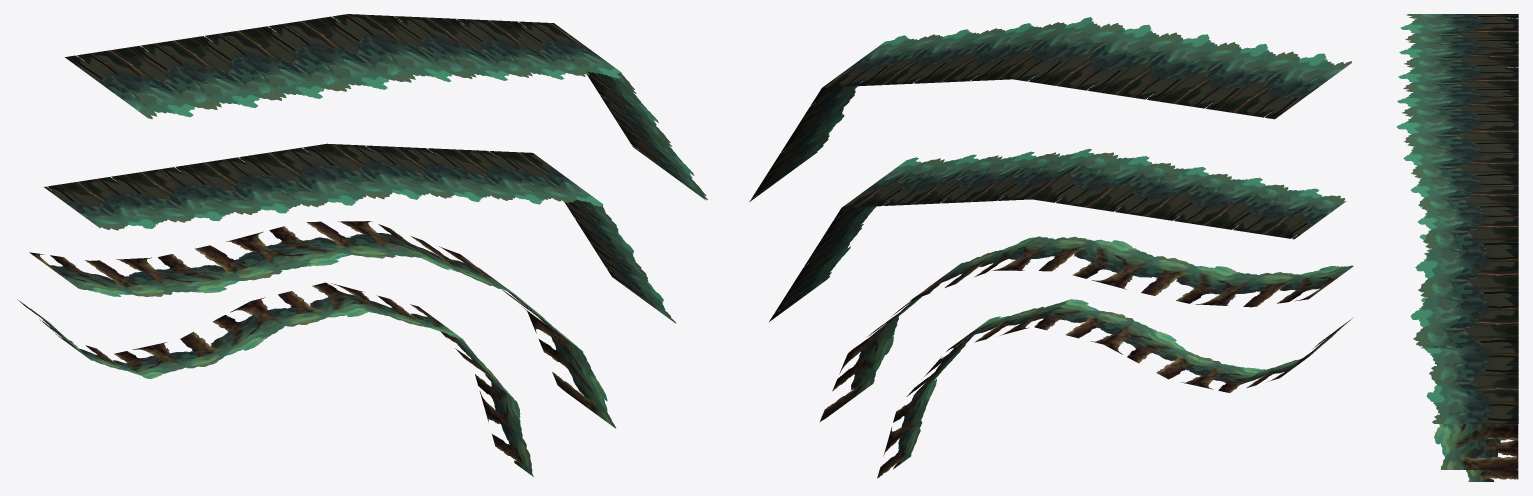
Rendered from bg_forest.fbx.
The picture shows the model from 3 angles, left to right: view 1: azimuth 30°, elevation 25°; view 2: azimuth 150°, elevation 25°; view 3: azimuth 270°, elevation 25°; orthographic projection. The views are drawn at different scales.
Parts seen in each view (by area): view 1: a1_2d_forest; view 2: a1_2d_forest; view 3: a1_2d_forest.
Boxes of the visible parts, x1,y1,x2,y2 form: a1_2d_forest: (17,14,707,476); a1_2d_forest: (749,17,1353,478); a1_2d_forest: (1396,14,1518,481).
Size of the model in its own units: 1589 by 1220 by 429.
2 materials, 2 textured.
